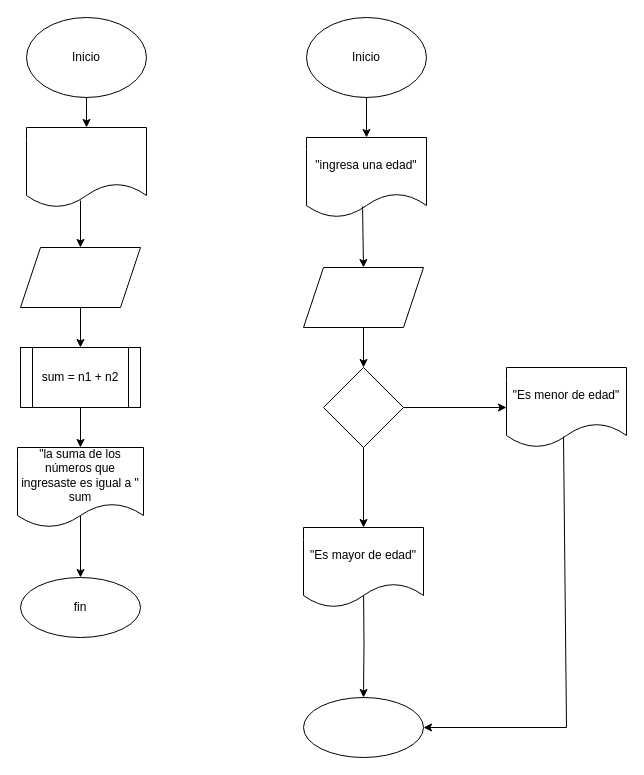
The diagram is 644 pixels wide and 775 high, and some of its shapes have lost their labels. The centre of each missing label's shape, as x and y in pixels:
"ingresa 2 números": pixel 86 167
Ed1: pixel 363 297
ed1 > 18: pixel 363 407
n1, n2, sum: pixel 80 277
